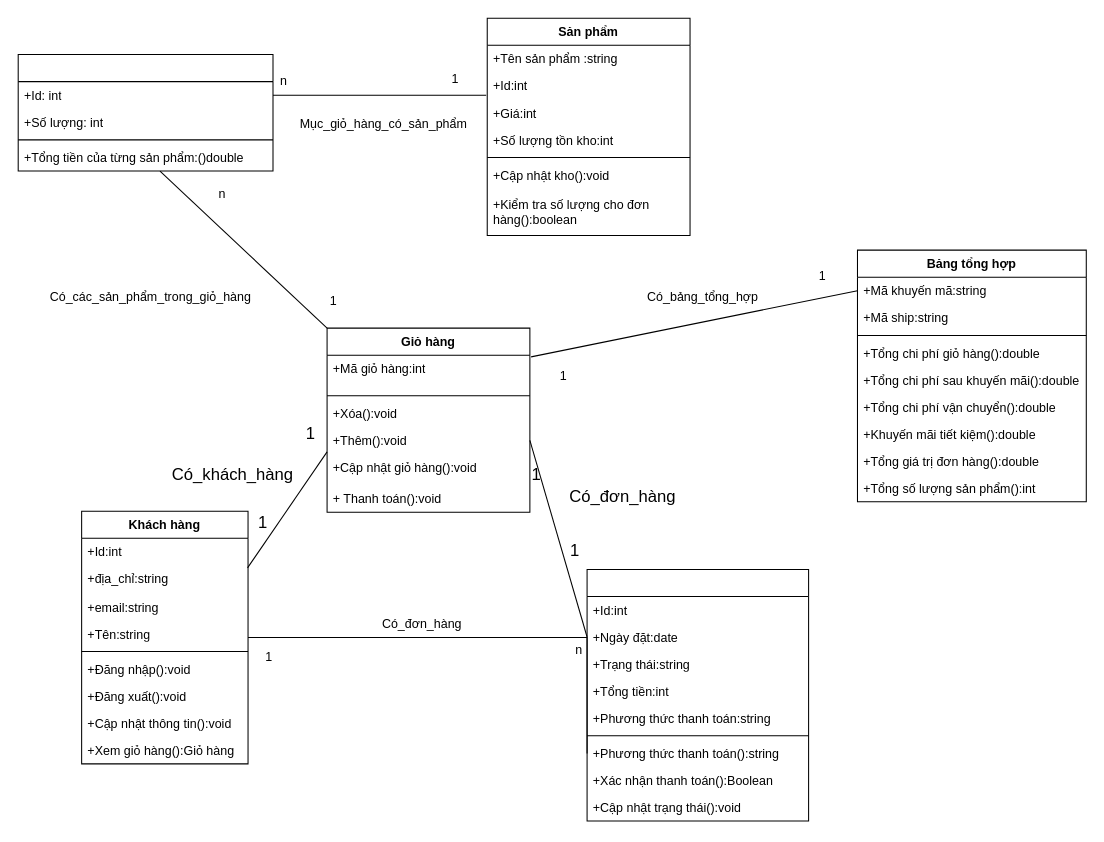
Image size: 1104x842. Some labels were removed from this diagram. The shapes that lost their labels are listed below. From the top down, each one's box as (x1, y1, x2, y2) in pixels, then its label:
(17, 54, 273, 171): Mục sản phẩm trong giỏ hàng
(586, 568, 809, 821): Đơn hàng
